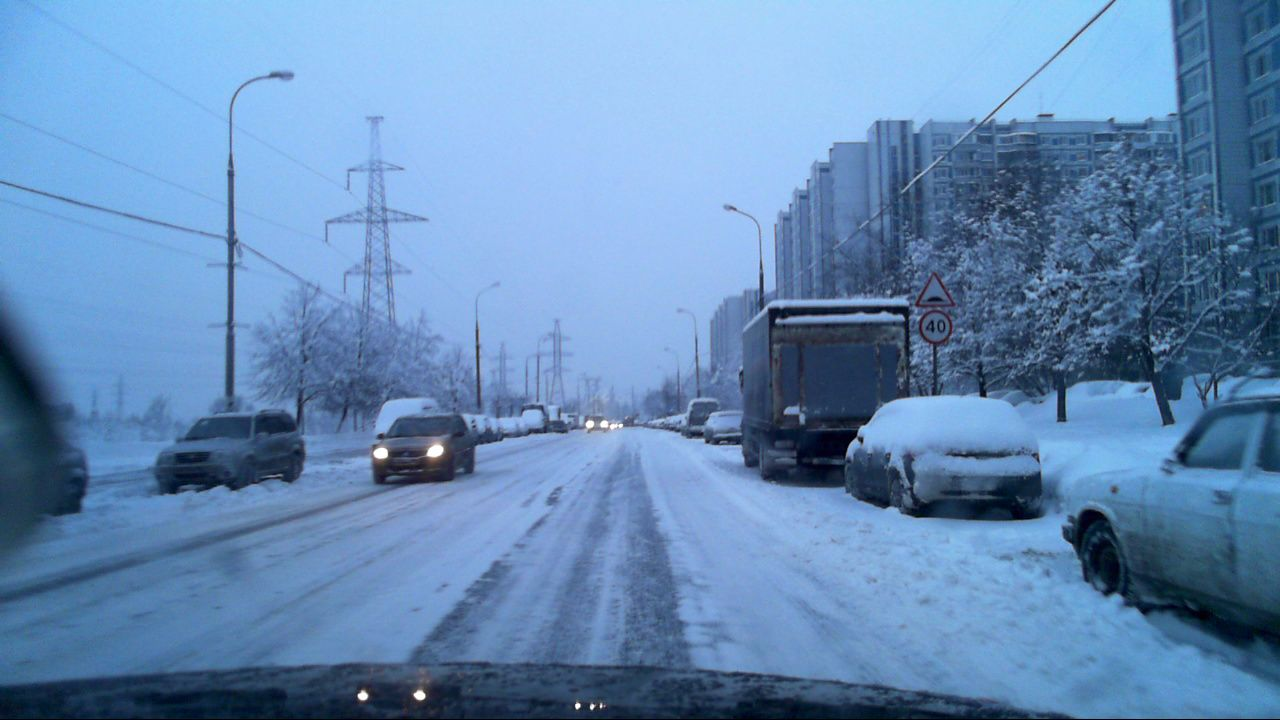speed_warning_40: (919, 310, 952, 343)
